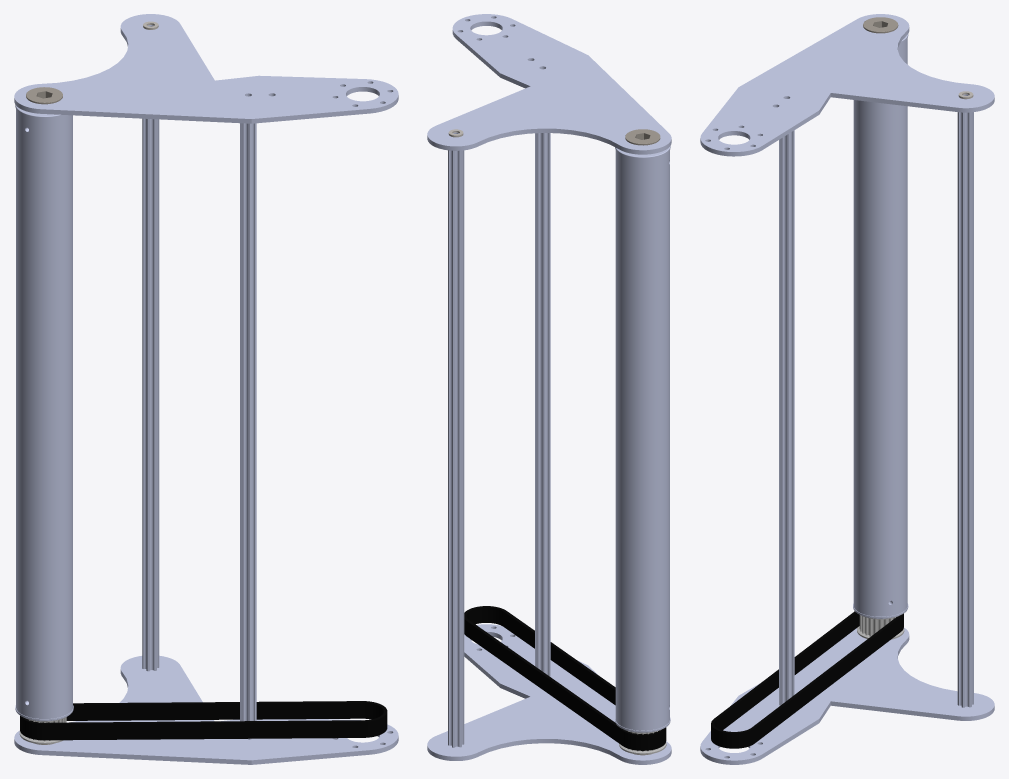
3 views of the same model, side by side, from view 1: azimuth 30°, elevation 25°; view 2: azimuth 150°, elevation 25°; view 3: azimuth 270°, elevation 25° (orthographic). The views are drawn at different scales.
Parts seen in each view (by area): view 1: NAUO12, NAUO2, NAUO10, NAUO1, NAUO11, NAUO5; view 2: NAUO12, NAUO2, NAUO1, NAUO5, NAUO11, NAUO10, NAUO4; view 3: NAUO12, NAUO2, NAUO1, NAUO5, NAUO11, NAUO10, NAUO7.
Part boxes in pixels (<box>): NAUO12: <box>16,109,72,718</box>; NAUO2: <box>14,14,398,123</box>; NAUO10: <box>20,701,387,740</box>; NAUO1: <box>14,655,398,764</box>; NAUO11: <box>240,123,256,739</box>; NAUO5: <box>142,118,159,671</box>; NAUO12: <box>615,150,669,730</box>; NAUO2: <box>427,14,671,154</box>; NAUO1: <box>427,624,671,764</box>; NAUO5: <box>448,150,464,747</box>; NAUO11: <box>535,133,550,676</box>; NAUO10: <box>464,606,666,750</box>; NAUO4: <box>625,129,660,145</box>; NAUO12: <box>853,38,907,616</box>; NAUO2: <box>700,14,994,156</box>; NAUO1: <box>700,628,994,764</box>; NAUO5: <box>957,112,973,707</box>; NAUO11: <box>779,130,794,705</box>; NAUO10: <box>711,611,903,748</box>; NAUO7: <box>857,615,904,639</box>.
Size of the model in its own units: 0.2893 by 0.6021 by 0.2604.
